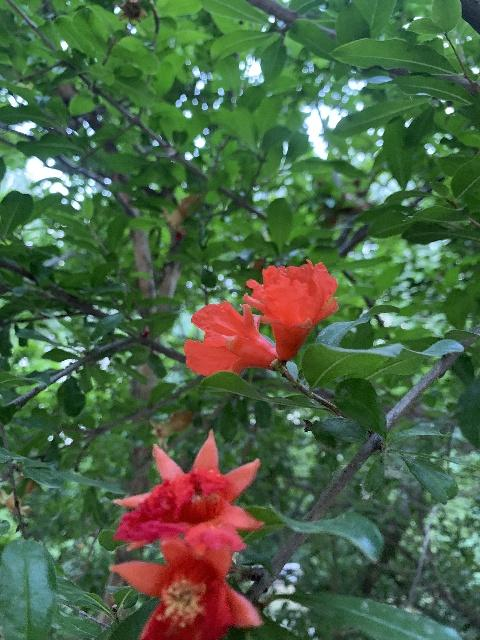early-fruit: (160, 194, 201, 240), (149, 410, 193, 451), (0, 476, 36, 515)
flower: (112, 429, 263, 556), (108, 535, 261, 639), (243, 257, 339, 360), (182, 299, 276, 378)
